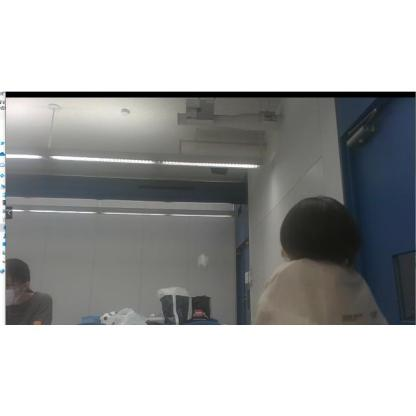ball: (198, 255, 209, 268)
